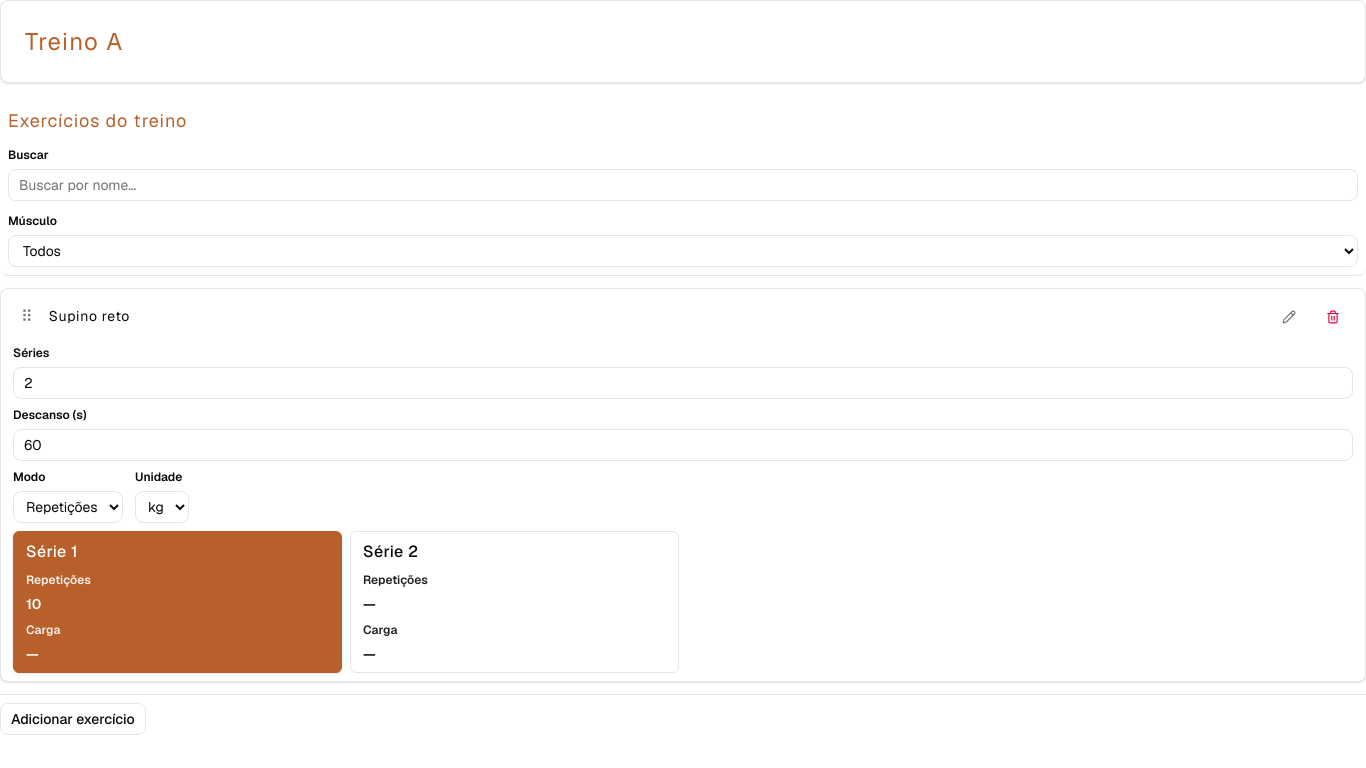
it: modo execução da seção (Mílon #5 — RED) › com flag: última desmarcada abre a pergunta com a série já desmarcada (sem excluir)
Click the button "Série 1 Repetições 10 Carga —" at [52, 552], box [13,531,342,673]
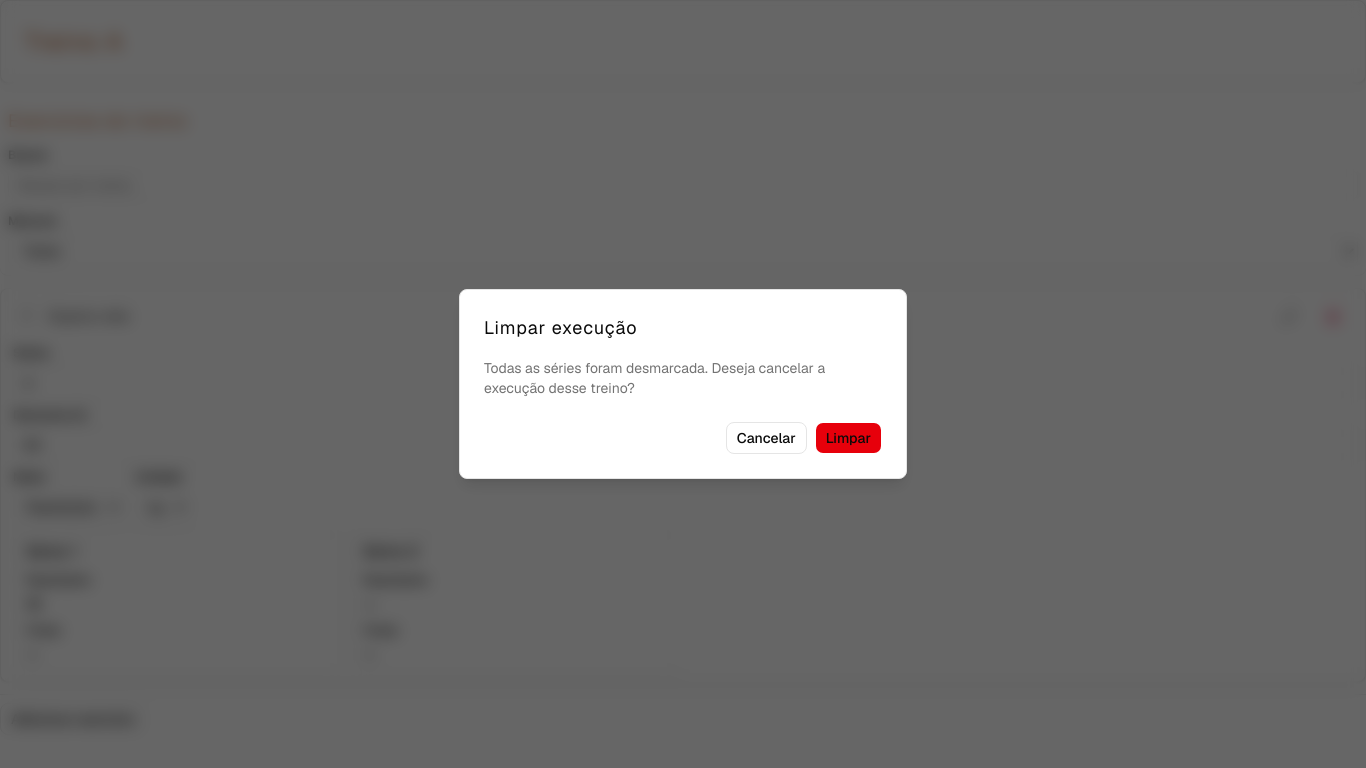
Now the text "Todas as séries foram desmarcada. Deseja cancelar a execução desse treino?" is shown, box [484,358,882,398]
